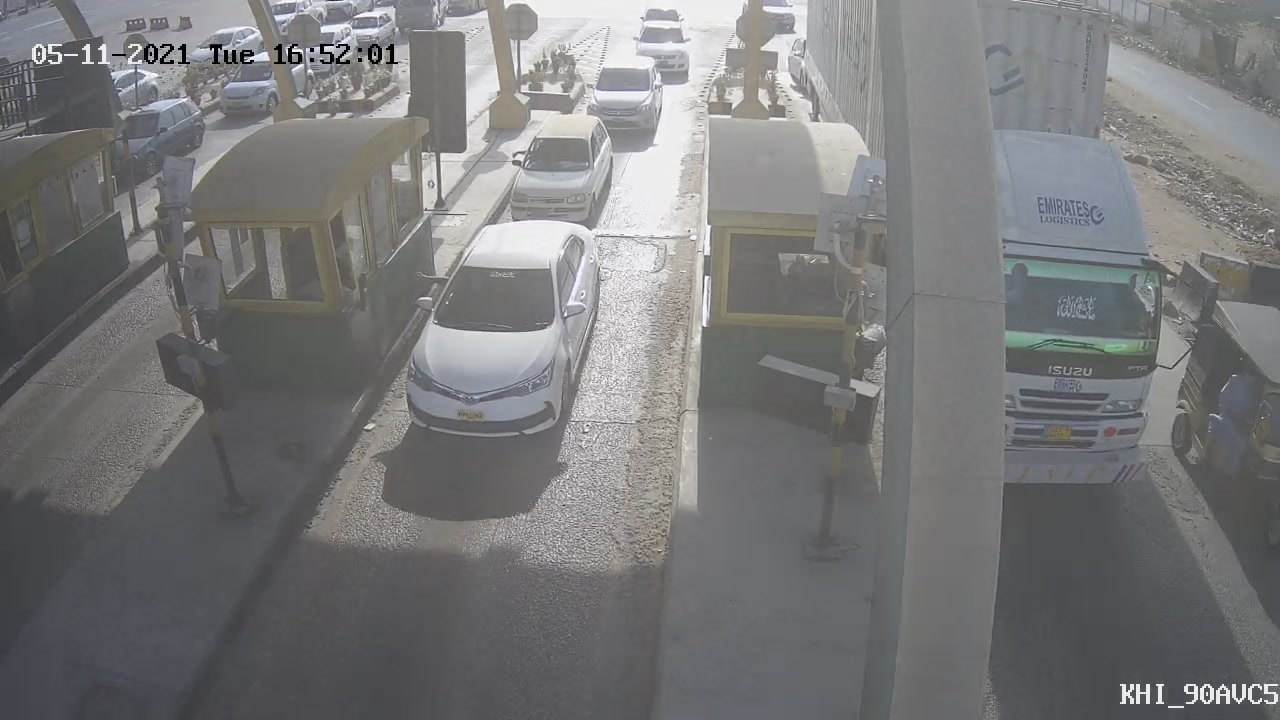F1: (381, 209, 617, 457), (486, 100, 626, 239), (569, 43, 674, 151)
